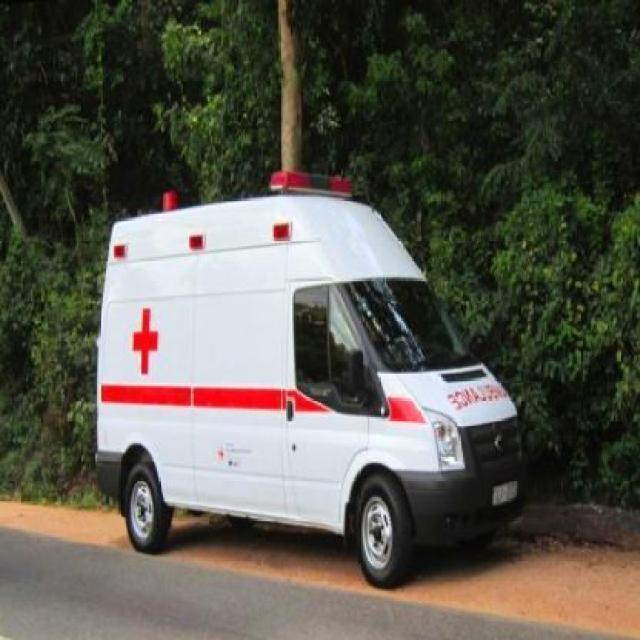emergency: (92, 169, 528, 589)
